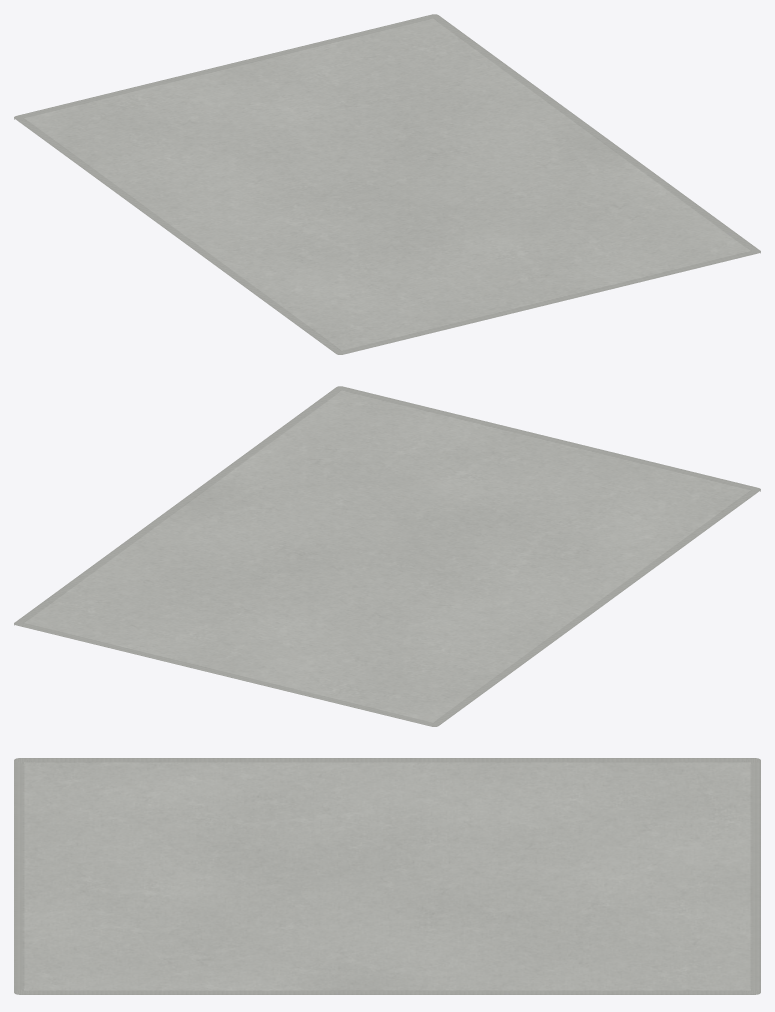
File: gray_M.glb
The picture shows the model from 3 angles, top to bottom: view 1: azimuth 30°, elevation 25°; view 2: azimuth 150°, elevation 25°; view 3: azimuth 270°, elevation 25°; orthographic projection. The views are drawn at different scales.
Visible parts, largest first — view 1: reliv_gray_M; view 2: reliv_gray_M; view 3: reliv_gray_M.
Boxes of the visible parts, x1,y1,x2,y2 form: reliv_gray_M: (14,14,760,354); reliv_gray_M: (14,386,760,726); reliv_gray_M: (14,758,760,994).
Bounding box in the file's own units: 1.5 × 0.009 × 2.
Materials: 2 (1 with a texture image).
